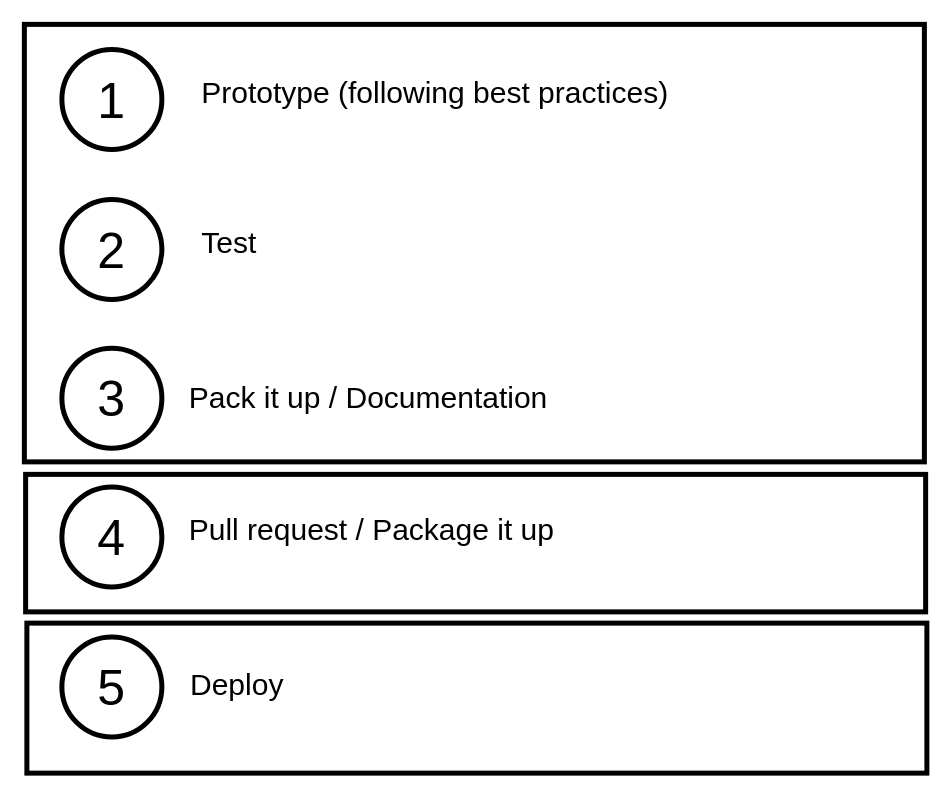
The diagram is 950 pixels wide and 796 high, and some of its shapes have lost their labels. Here are the shapes that lost their labels. From the top down, the box of each, then its label:
(21, 21, 926, 464): Feature Branch.
(22, 471, 928, 614): Master Branch.
(24, 620, 929, 775): Django Api.
